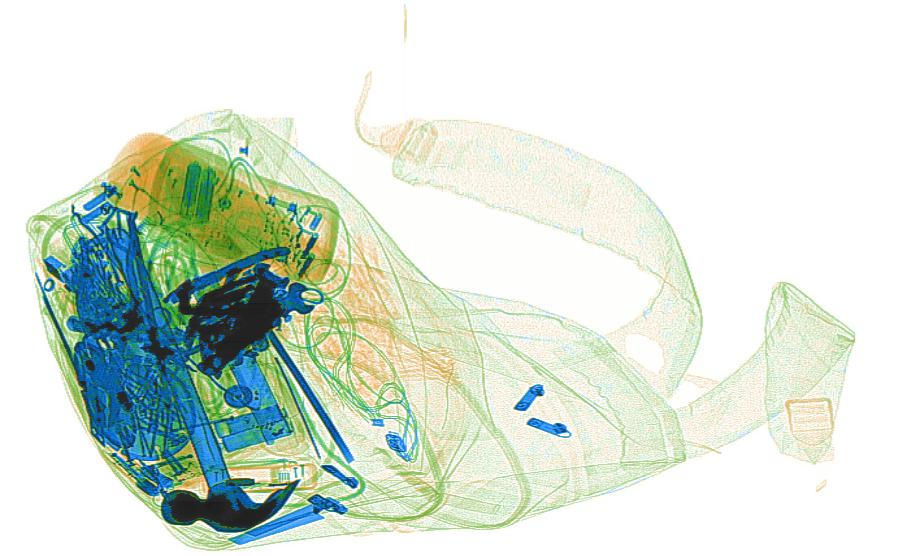battery: (210, 403, 297, 454), (179, 160, 217, 228)
knife: (188, 273, 297, 449)
